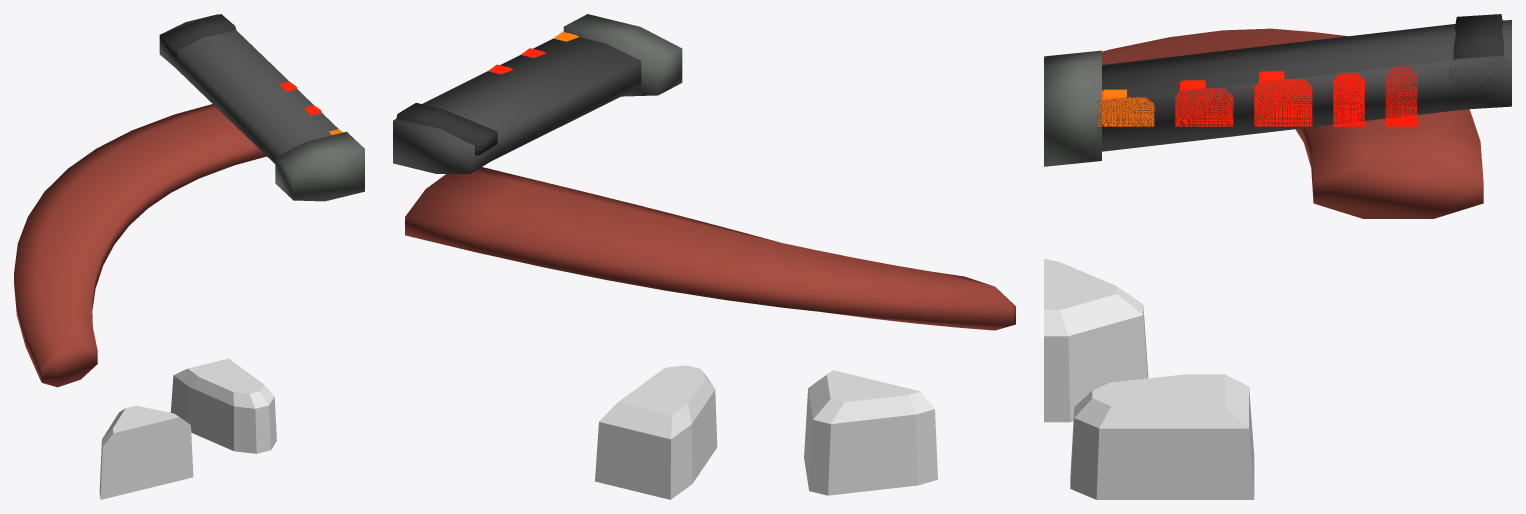
The model's file is newshi-3-f2.glb.
3 views of the same model, side by side, from view 1: azimuth 30°, elevation 25°; view 2: azimuth 150°, elevation 25°; view 3: azimuth 270°, elevation 25° (orthographic). The views are drawn at different scales.
Visible parts, largest first — view 1: newshi-3-f2; view 2: newshi-3-f2; view 3: newshi-3-f2.
Part boxes in pixels (box(x1,y1,x2,y2)): newshi-3-f2: box(14, 14, 364, 499); newshi-3-f2: box(393, 14, 1015, 499); newshi-3-f2: box(1044, 14, 1511, 499).
Size of the model in its own units: 1.88 by 1.76 by 1.48.
